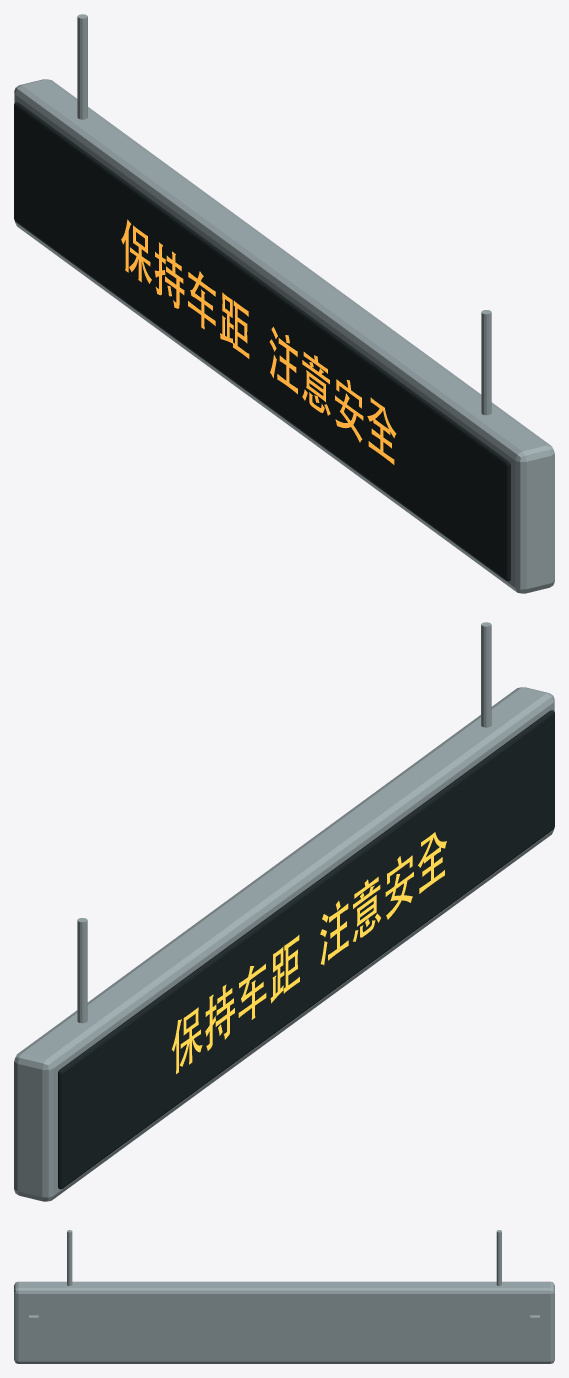
The model's file is interior-vms.glb.
3 renders of one model, top to bottom at view 1: azimuth 30°, elevation 25°; view 2: azimuth 150°, elevation 25°; view 3: azimuth 270°, elevation 25°, orthographic. The views are drawn at different scales.
Visible parts, largest first — view 1: LED screen, 柱体, 保持车距 注意安全; view 2: LED screen, 柱体, 保持车距 注意安全; view 3: 柱体.
Part boxes in pixels (x1,y1,x2,y2): LED screen: [14, 102, 510, 581]; 柱体: [14, 14, 554, 593]; 保持车距 注意安全: [121, 219, 396, 464]; LED screen: [58, 710, 554, 1189]; 柱体: [14, 622, 554, 1201]; 保持车距 注意安全: [171, 832, 446, 1073]; 柱体: [14, 1230, 554, 1363].
Size of the model in its own units: 0.417 by 1.79 by 6.8.
